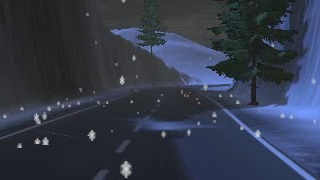Lane: (0, 83, 314, 179)
